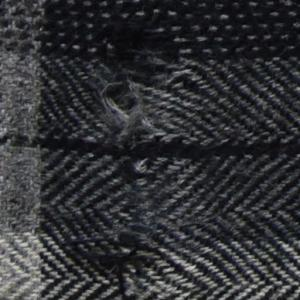Damage: (82, 12, 206, 300), (1, 182, 36, 225)
